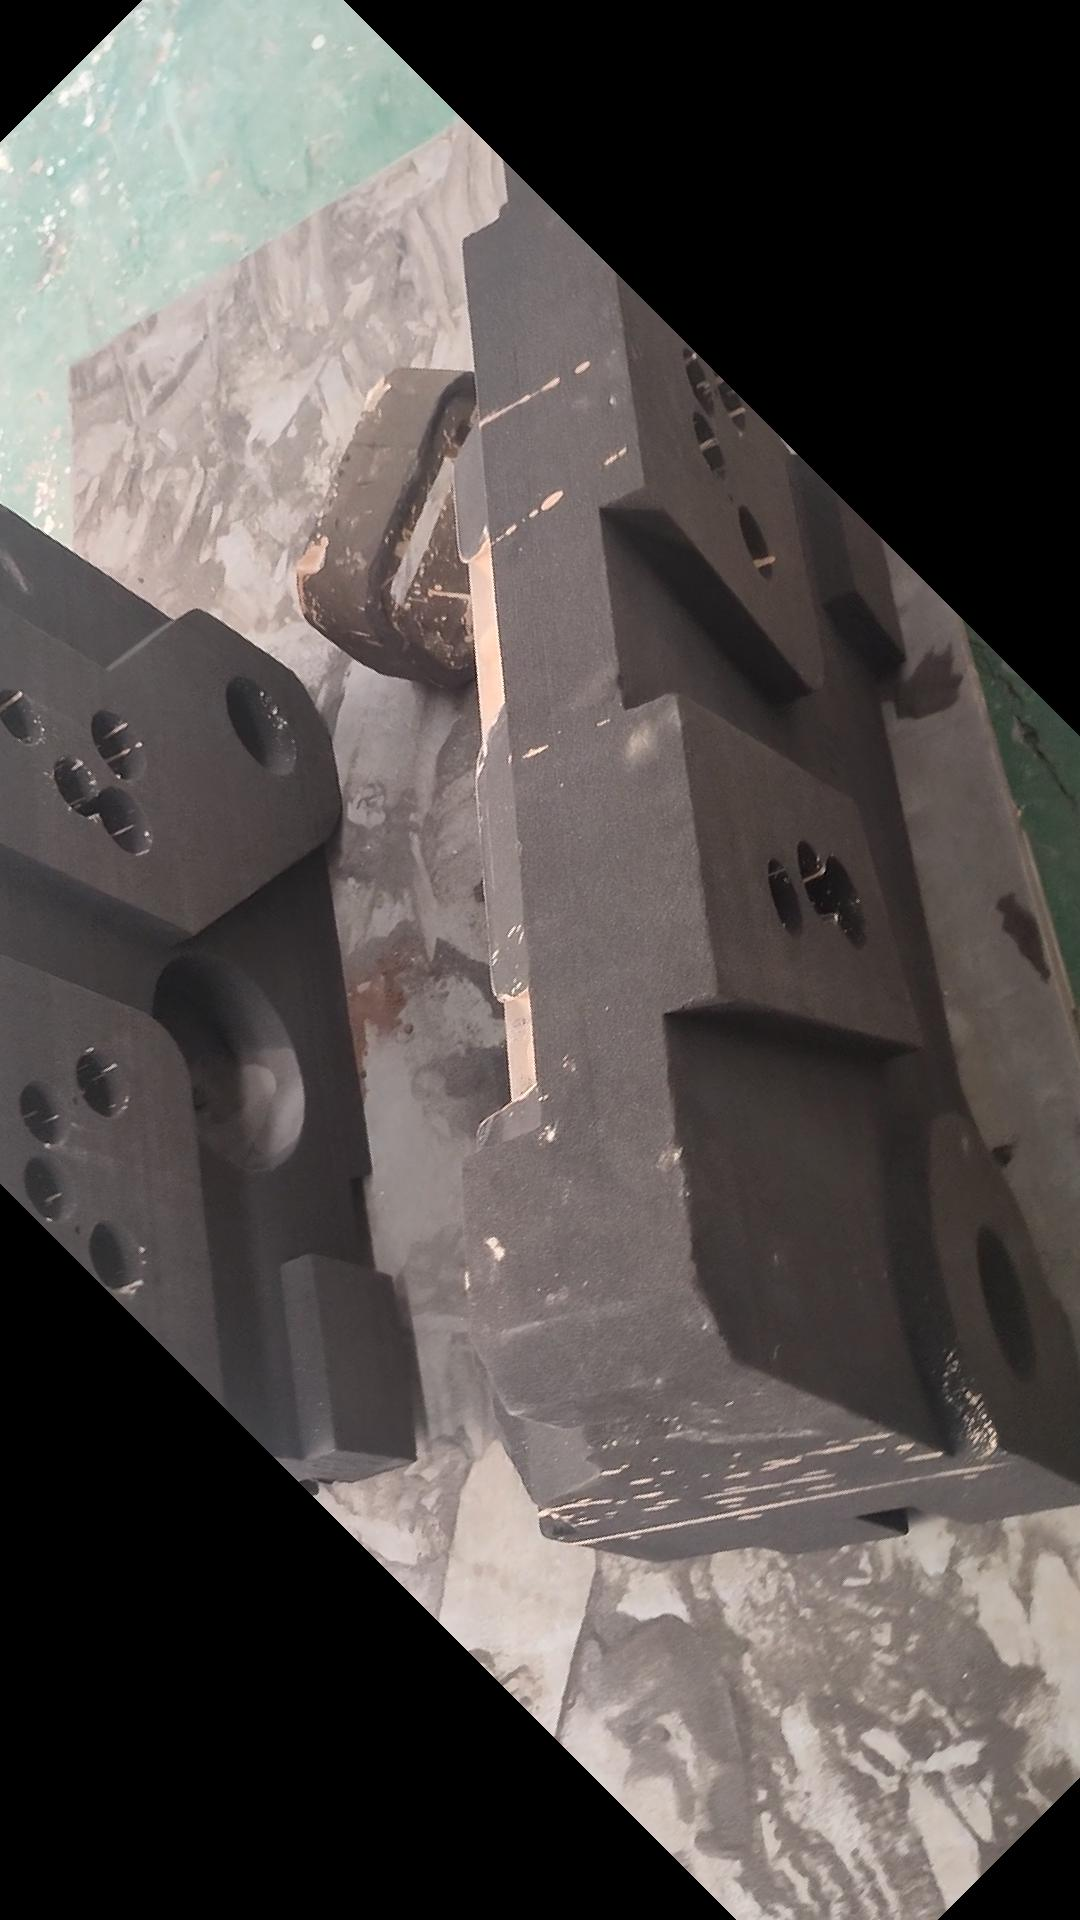pouring hole: (978, 1222, 1039, 1381), (225, 676, 297, 775)
